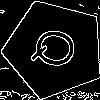Q: (29, 24, 88, 74)
